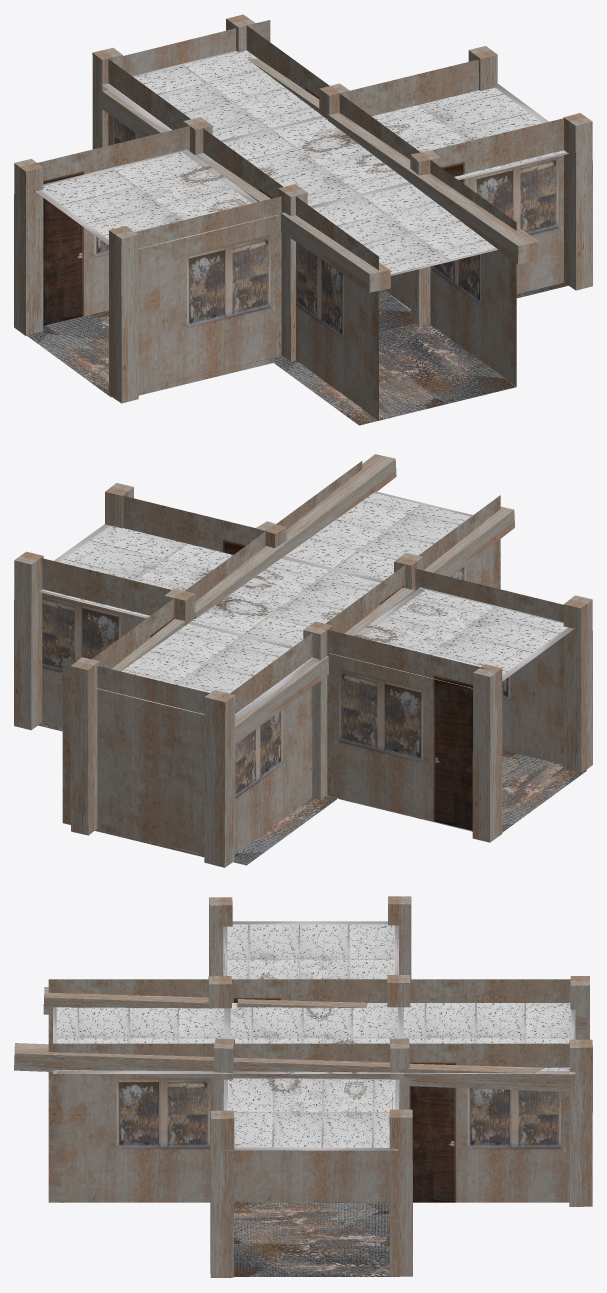
File: puzzel_end.gltf
3 renders of one model, top to bottom at view 1: azimuth 30°, elevation 25°; view 2: azimuth 150°, elevation 25°; view 3: azimuth 270°, elevation 25°, orthographic. The views are drawn at different scales.
Visible parts, largest first — view 1: center_left_back_wall.001, front_left_wall, center_right_back_wall, cieling_center_left, floor_front, center_left_back_wall, front_right_wall, cieling_back, cieling_front, cieling_center, cieling_center_right, center_pillar_left.001 (+23 smaller); view 2: center_left_back_wall, back_pannel, back_left_wall, cieling_center_left, center_right_back_wall.001, cieling_center, center_left_back_wall.001, cieling_front, cieling_back, cieling_center_right, back_left_pillar, center_left_pillar.001 (+22 smaller); view 3: front_right_wall, back_right_wall, cieling_center_right, floor_center_right, center_right_panel, cieling_center_left, cieling_back, cieling_center, cieling_front, center_pillar_left.002, front_right_support_beam, center_left_pillar.002 (+15 smaller).
Boxes of the visible parts, <box> form: center_left_back_wall.001: <box>135,196,281,395</box>; front_left_wall: <box>296,196,378,420</box>; center_right_back_wall: <box>432,118,563,293</box>; cieling_center_left: <box>35,149,276,249</box>; floor_front: <box>268,323,515,425</box>; center_left_back_wall: <box>33,126,189,325</box>; front_right_wall: <box>430,160,516,386</box>; cieling_back: <box>100,50,322,140</box>; cieling_front: <box>311,183,498,275</box>; cieling_center: <box>197,116,410,206</box>; cieling_center_right: <box>371,83,568,180</box>; center_pillar_left.001: <box>109,226,138,403</box>; center_left_back_wall: <box>327,629,484,830</box>; back_pannel: <box>62,657,209,857</box>; back_left_wall: <box>230,633,312,854</box>; cieling_center_left: <box>330,587,574,688</box>; center_right_back_wall.001: <box>42,558,171,727</box>; cieling_center: <box>189,557,413,647</box>; center_left_back_wall.001: <box>415,568,563,764</box>; cieling_front: <box>283,491,472,589</box>; cieling_back: <box>97,623,318,721</box>; cieling_center_right: <box>39,524,232,618</box>; back_left_pillar: <box>204,690,235,867</box>; center_left_pillar.001: <box>472,664,502,842</box>; front_right_wall: <box>48,1043,214,1202</box>; back_right_wall: <box>409,1043,569,1202</box>; cieling_center_right: <box>223,1078,399,1150</box>; floor_center_right: <box>234,1202,399,1276</box>; center_right_panel: <box>234,1043,389,1202</box>; cieling_center_left: <box>223,921,398,979</box>; cieling_back: <box>400,1003,575,1073</box>; cieling_center: <box>226,1003,402,1073</box>; cieling_front: <box>53,1007,228,1073</box>; center_pillar_left.002: <box>210,1110,234,1277</box>; front_right_support_beam: <box>14,1043,213,1077</box>; center_left_pillar.002: <box>389,1109,412,1276</box>.
Bounding box in the file's own units: 6.06 × 2.07 × 6.6.
Materials: 11 (11 with a texture image).
